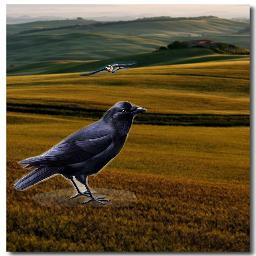Crow: (13, 101, 147, 207)
Swallow: (79, 61, 137, 76)
